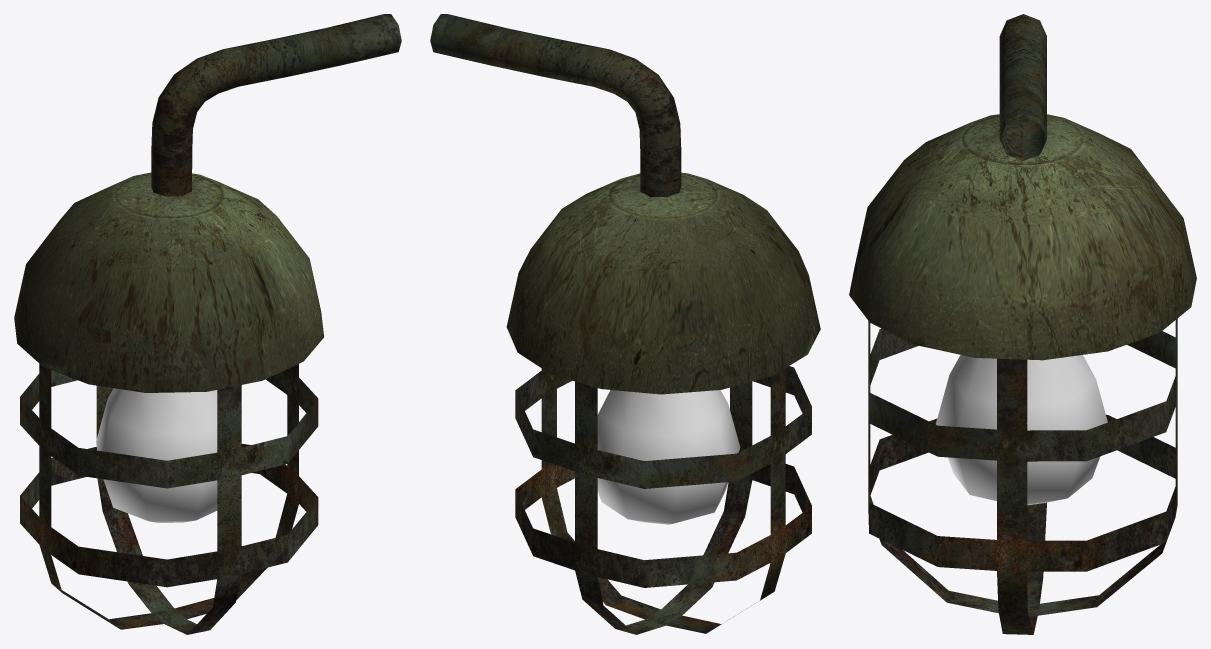
The model's file is light.fbx.
3 views of the same model, side by side, from view 1: azimuth 30°, elevation 25°; view 2: azimuth 150°, elevation 25°; view 3: azimuth 270°, elevation 25° (orthographic). The views are drawn at different scales.
Parts seen in each view (by area): view 1: exitLampShadeOne1; view 2: exitLampShadeOne1; view 3: exitLampShadeOne1.
Part boxes in pixels (x1,y1,x2,y2): exitLampShadeOne1: (14, 14, 401, 634); exitLampShadeOne1: (430, 14, 820, 634); exitLampShadeOne1: (849, 14, 1196, 634).
Size of the model in its own units: 0.3711 by 0.5483 by 0.2803.
